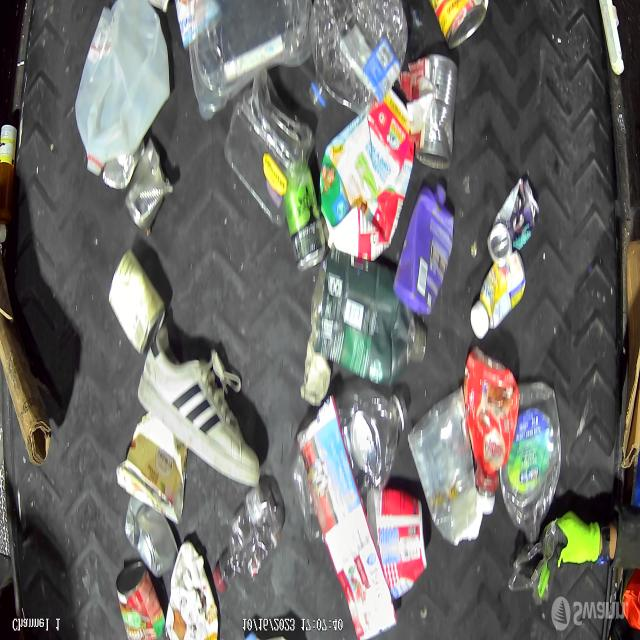can: (108, 247, 166, 354), (125, 136, 174, 233), (417, 56, 457, 172), (483, 190, 540, 269), (114, 559, 167, 639), (125, 498, 178, 578), (285, 184, 326, 272), (430, 0, 488, 51)
milk_jug: (80, 8, 168, 183)
non_white_jug: (312, 267, 428, 377), (472, 356, 523, 522), (400, 194, 453, 315)
plastic_bottle: (311, 0, 409, 121), (316, 402, 414, 498), (509, 382, 564, 545), (214, 489, 286, 605)
